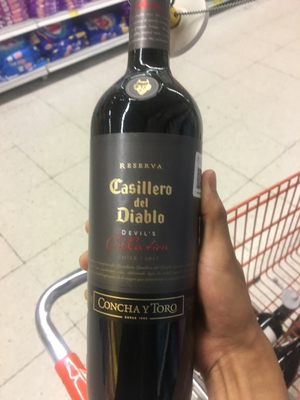casillero del diablo devils collection rojo: (78, 25, 208, 400)
